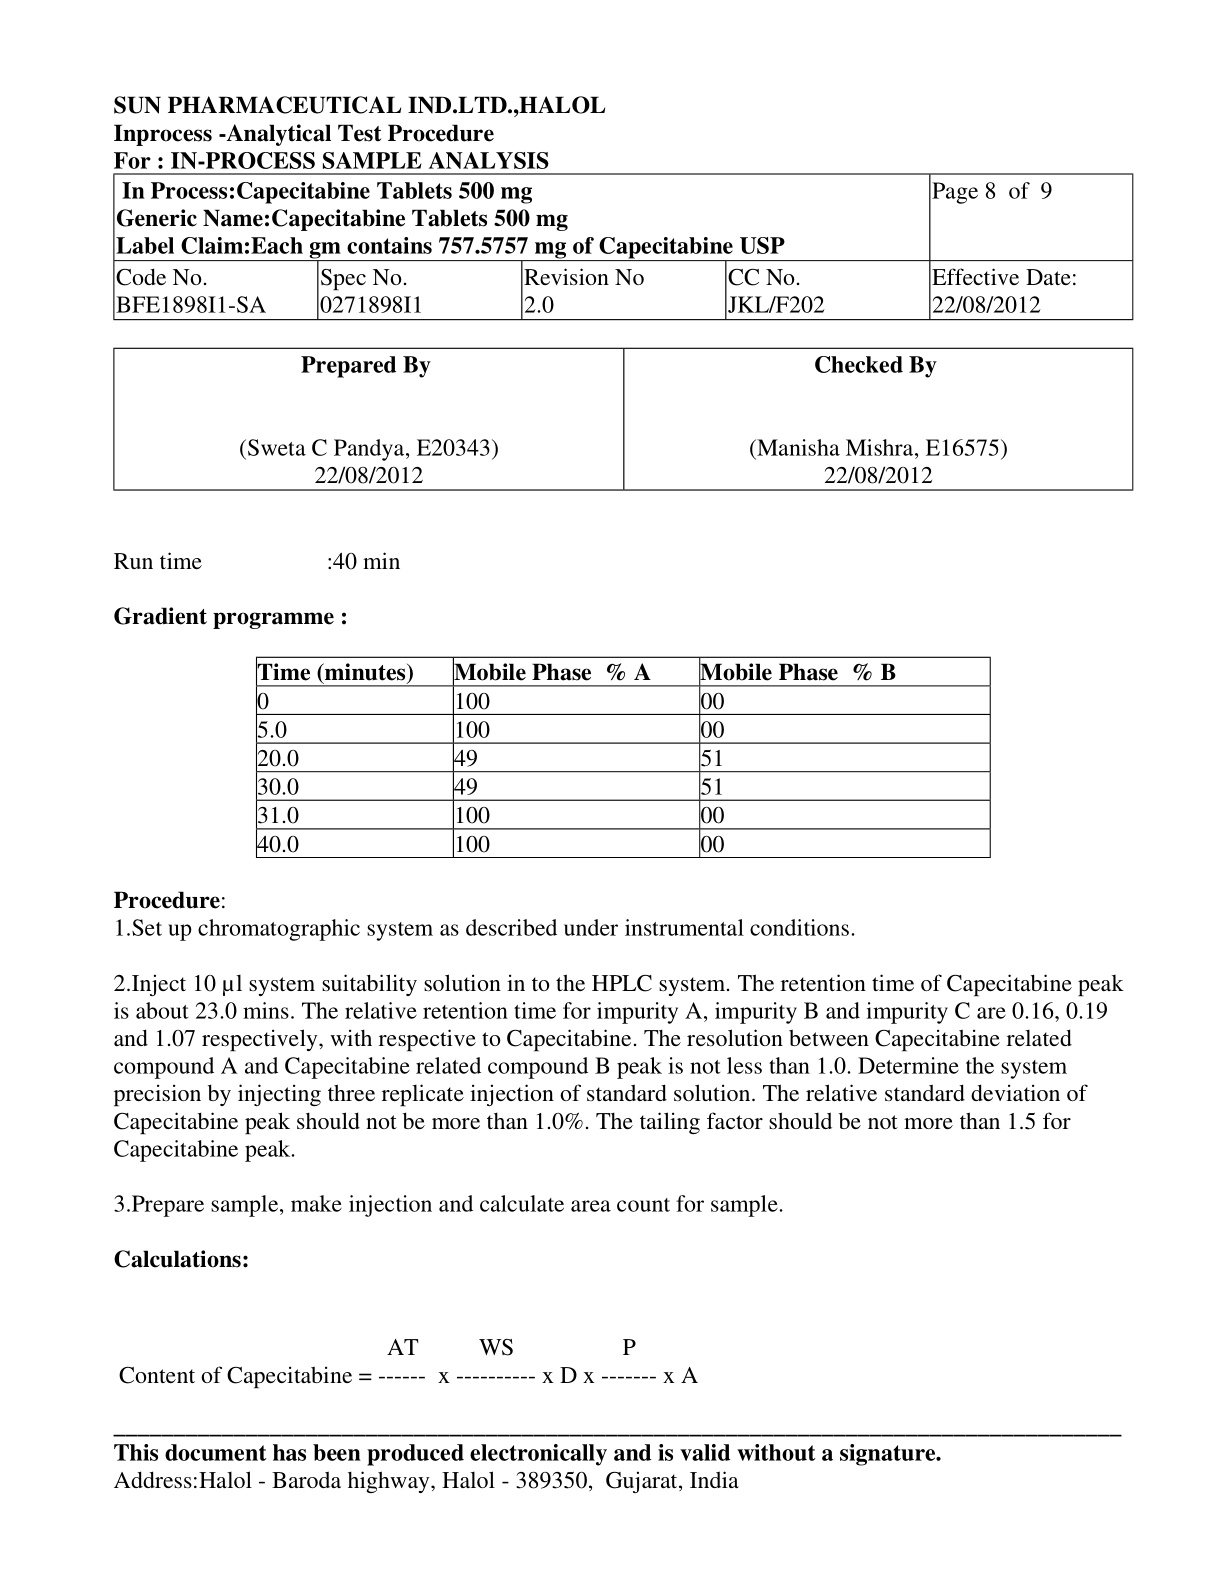full_lined: (255, 656, 993, 859), (113, 347, 1134, 491)
merged_cells: (112, 174, 1134, 321)
